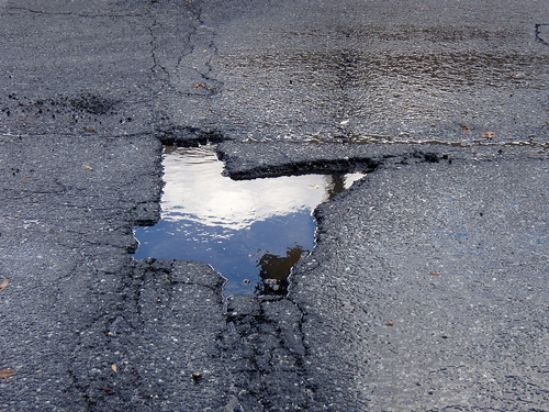pothole: (119, 130, 372, 310)
